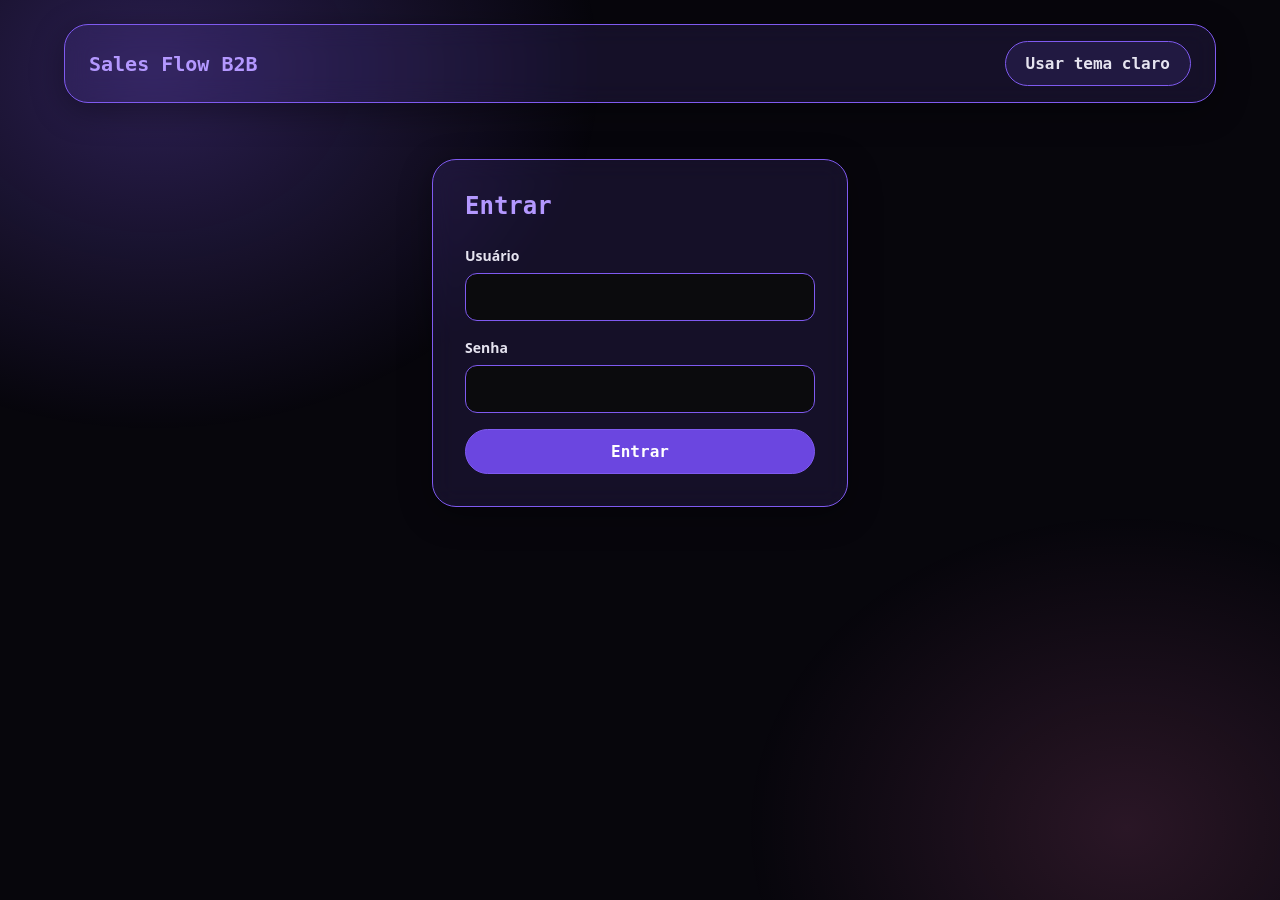
Test: LoginPage › shows an alert when the credentials are refused
This screenshot has width=1280, height=900.
Type "alice" into the field labelled "Usuário". click: (640, 297)
box: [465, 273, 815, 321]
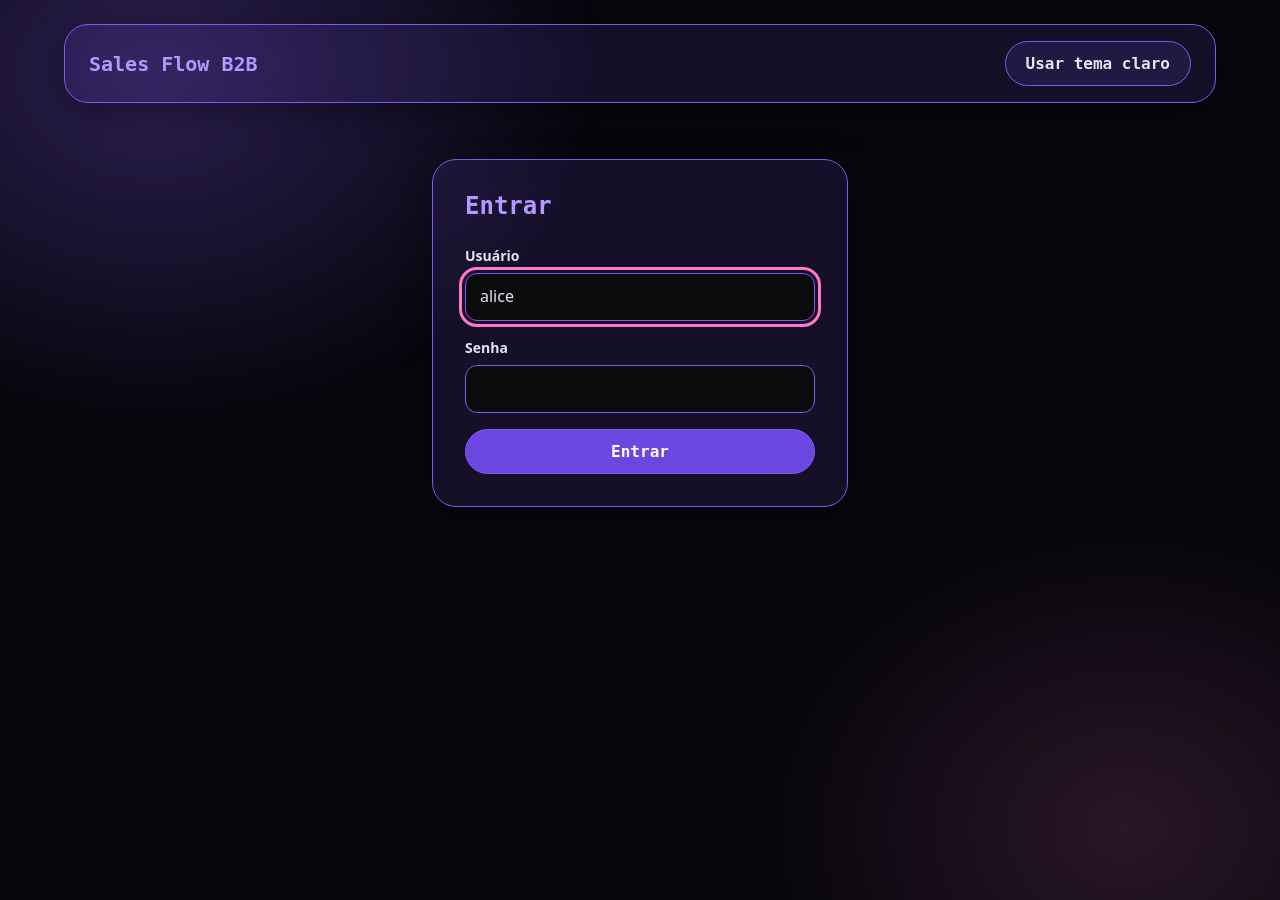
Type "wrong-pass" into the password field labelled "Senha". click: (640, 389)
box: [465, 365, 815, 413]
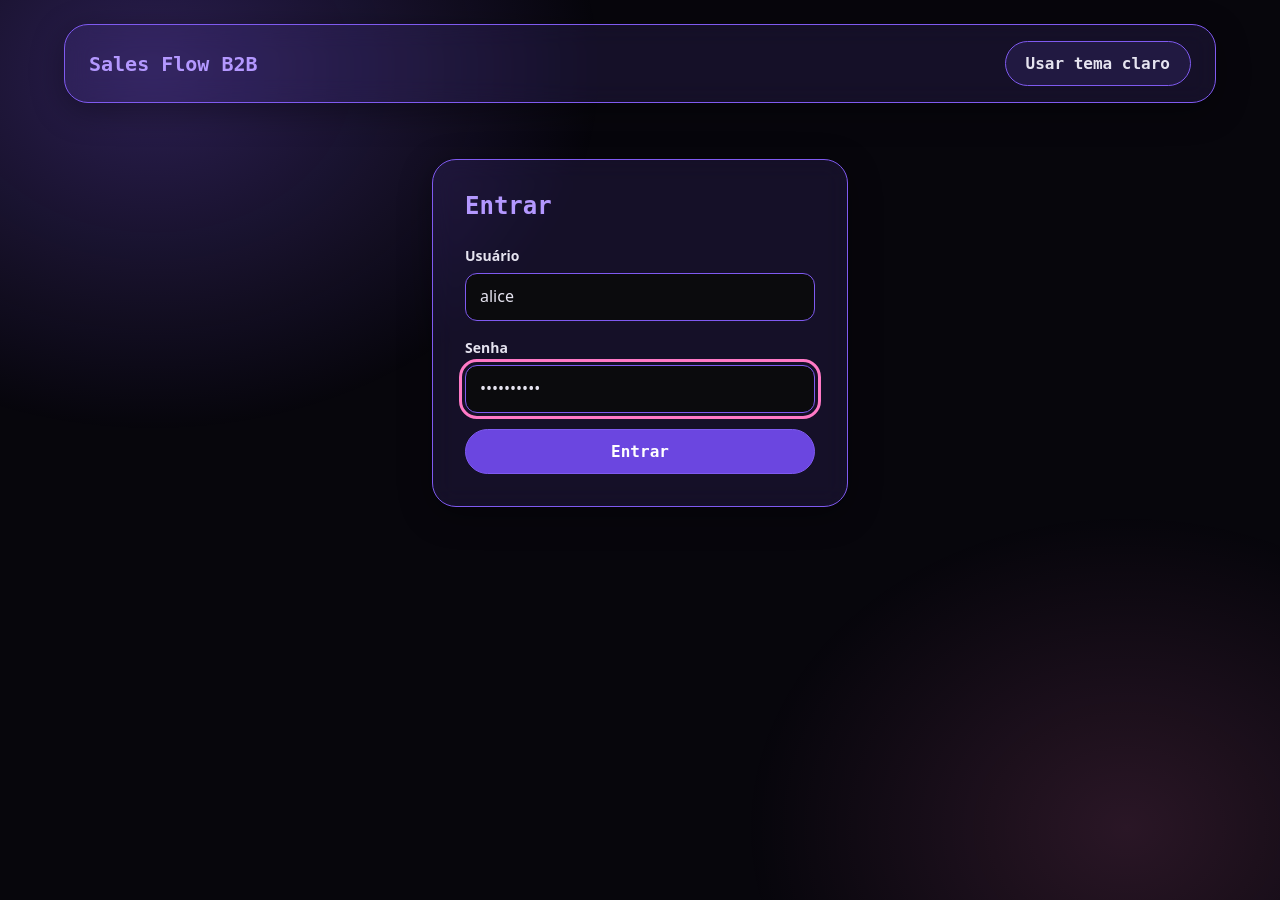
Click the button "Entrar". click: (640, 451)
box: [465, 429, 815, 474]
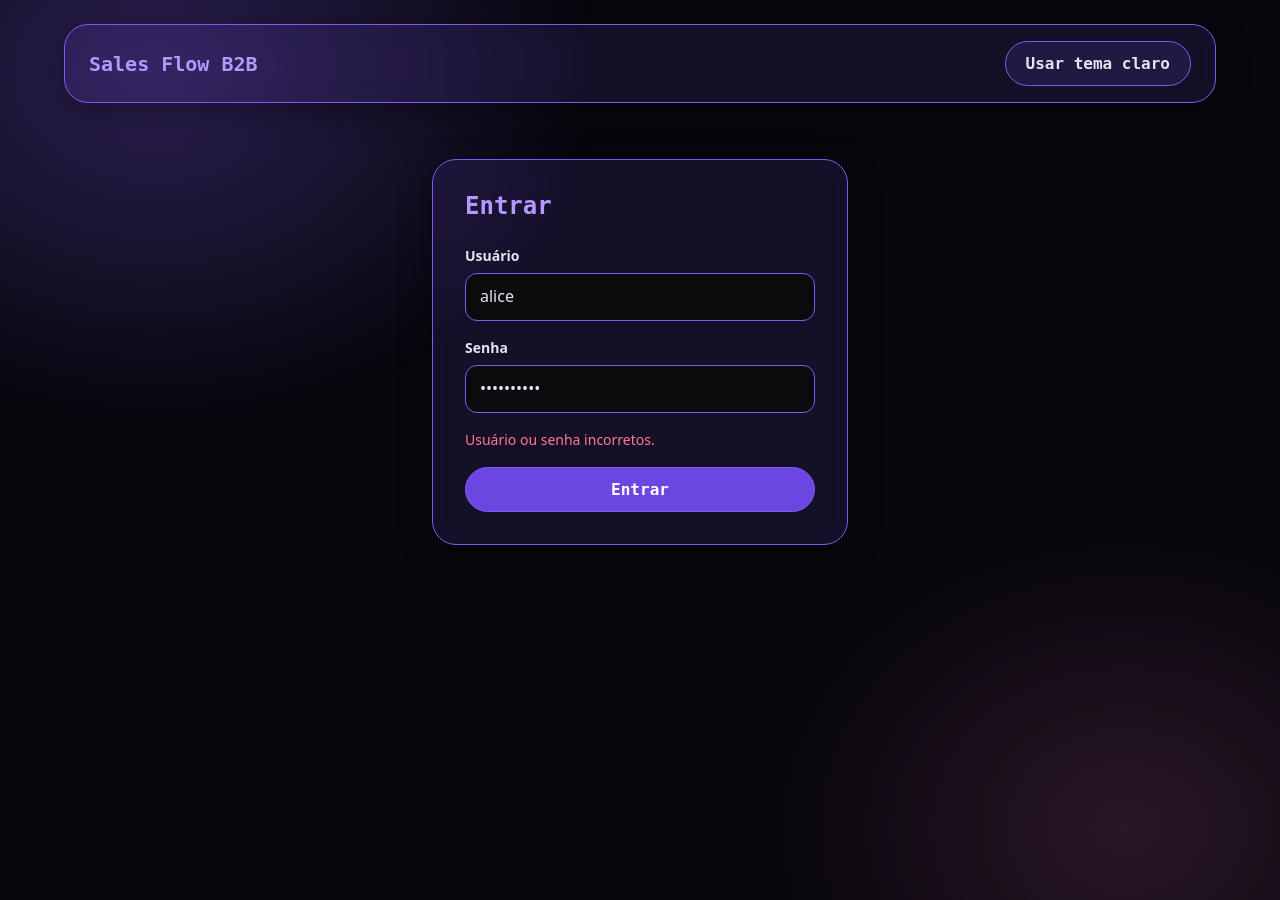
Check: the message reads "Usuário ou senha incorretos.", box [465, 430, 655, 449]
